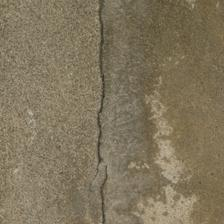Crack: (55, 7, 146, 200), (0, 0, 116, 49)
